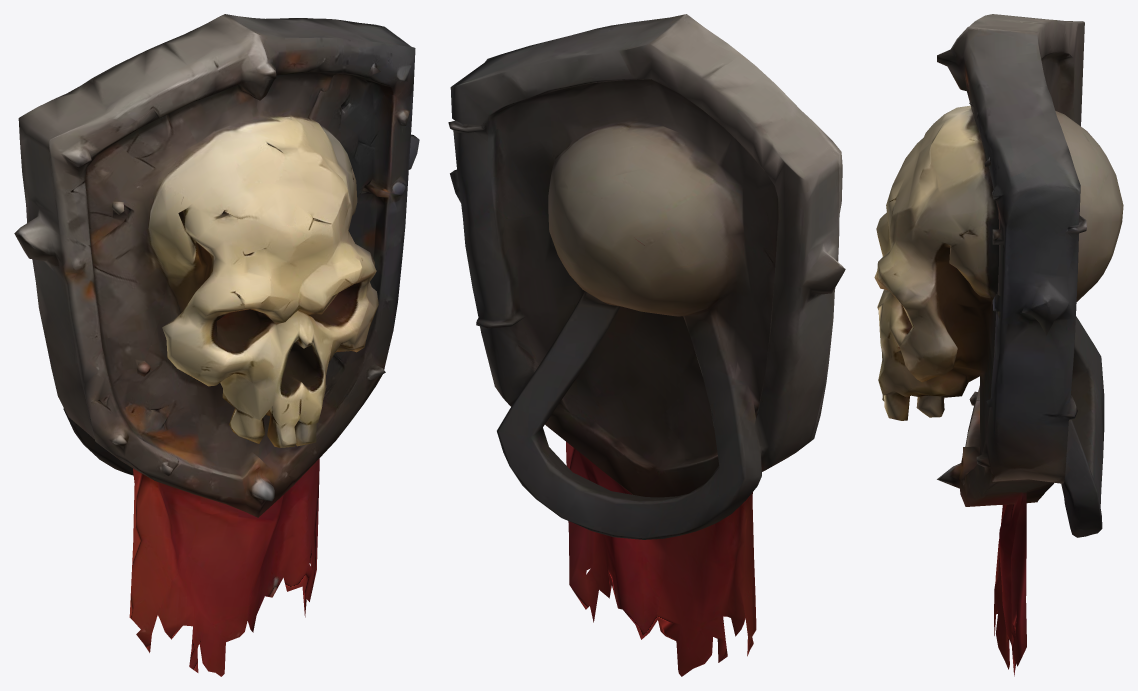
File: BoneKing_Shield-Dm2_G-0H.glb
3 views of the same model, side by side, from view 1: azimuth 30°, elevation 25°; view 2: azimuth 150°, elevation 25°; view 3: azimuth 270°, elevation 25° (orthographic).
Parts seen in each view (by area): view 1: tripo_node_beefda51-d599-464e-a14f-a2dc18f1ed1a; view 2: tripo_node_beefda51-d599-464e-a14f-a2dc18f1ed1a; view 3: tripo_node_beefda51-d599-464e-a14f-a2dc18f1ed1a.
Boxes of the visible parts, x1=… form: tripo_node_beefda51-d599-464e-a14f-a2dc18f1ed1a: x1=14, y1=14, x2=419, y2=676; tripo_node_beefda51-d599-464e-a14f-a2dc18f1ed1a: x1=448, y1=14, x2=845, y2=676; tripo_node_beefda51-d599-464e-a14f-a2dc18f1ed1a: x1=874, y1=14, x2=1123, y2=676.
Size of the model in its own units: 0.8021 by 1.25 by 0.4338.
Materials: 1 (1 with a texture image).
